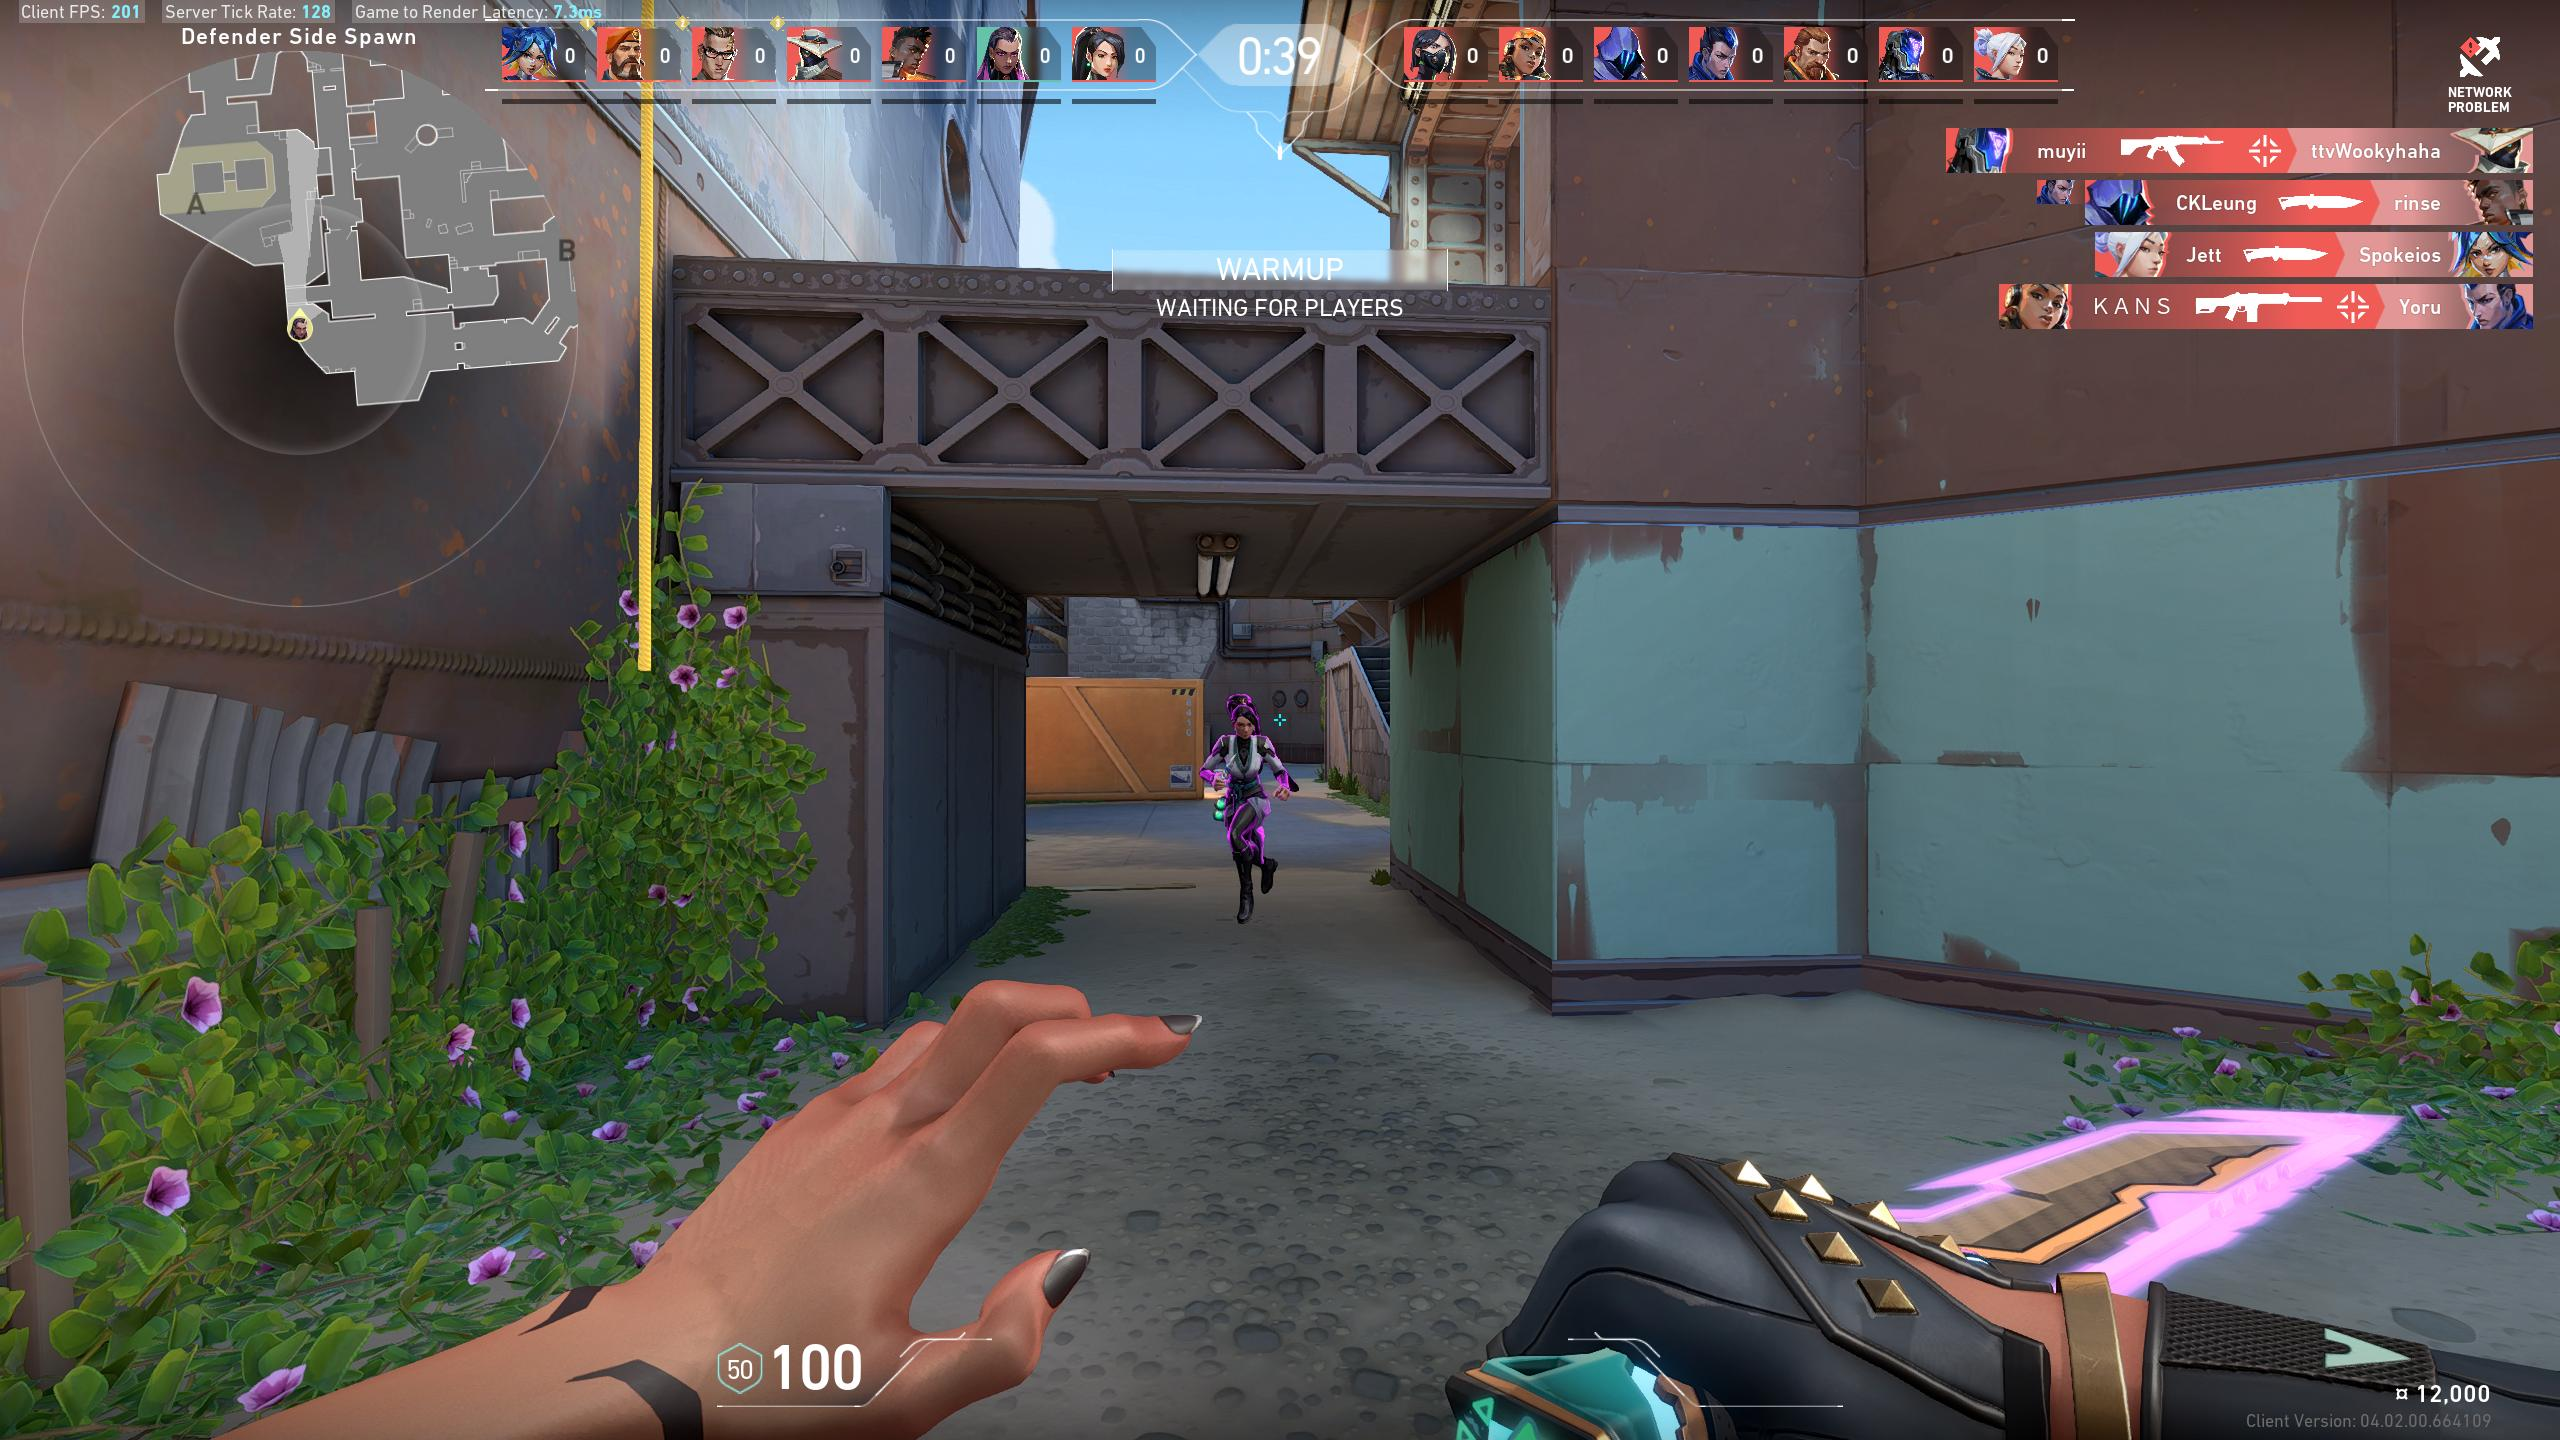enemyBody: (1231, 742, 1257, 789)
enemyHead: (1234, 710, 1254, 735)
